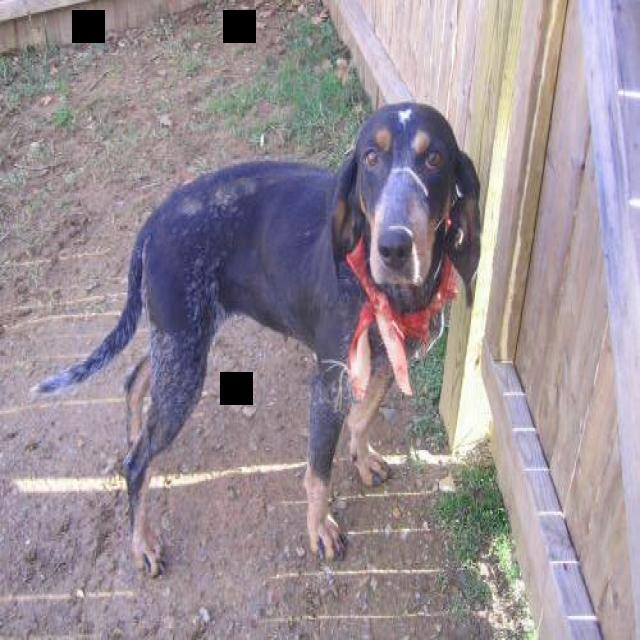adult_dog: (33, 100, 484, 578)
